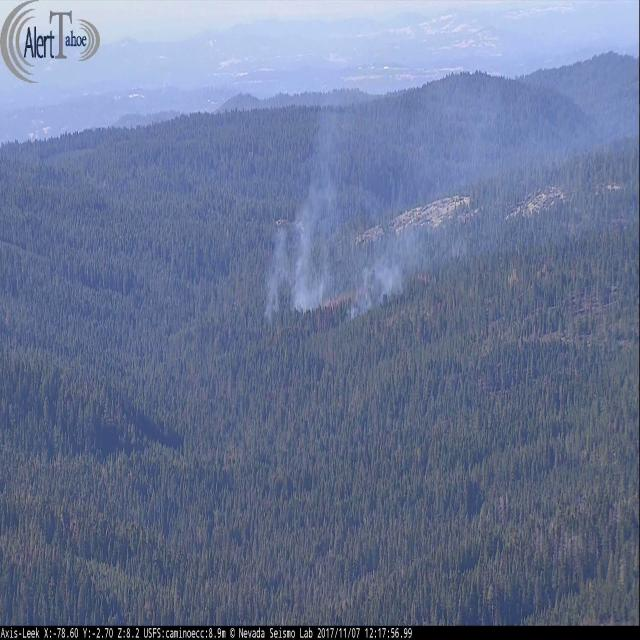smoke: (264, 61, 640, 323)
